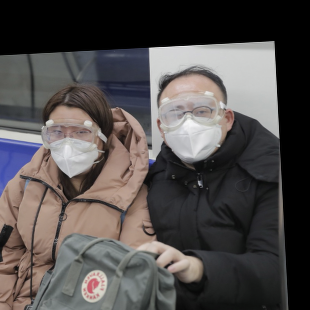with_mask: (161, 99, 223, 163), (46, 120, 99, 177)
